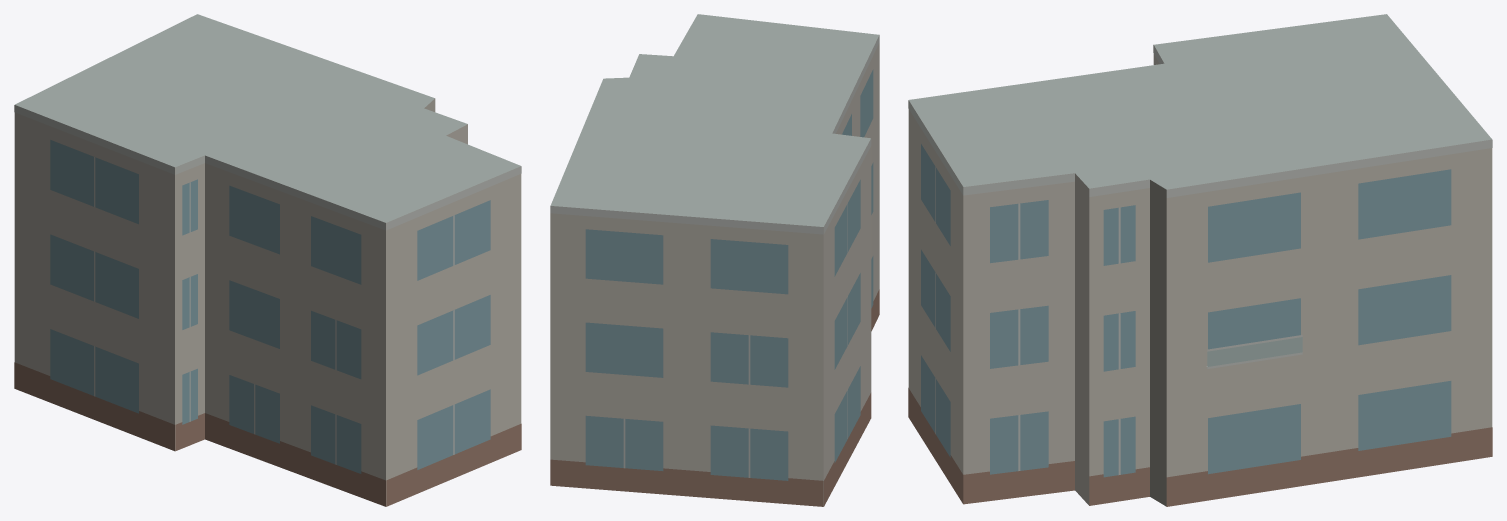
File: survey-upis-32613304.glb
The picture shows the model from 3 angles, left to right: view 1: azimuth 30°, elevation 25°; view 2: azimuth 150°, elevation 25°; view 3: azimuth 270°, elevation 25°; orthographic projection. The views are drawn at different scales.
Parts seen in each view (by area): view 1: survey-upis-32613304.tmp; view 2: survey-upis-32613304.tmp; view 3: survey-upis-32613304.tmp.
Boxes of the visible parts, x1,y1,x2,y2 form: survey-upis-32613304.tmp: (14,14,521,506); survey-upis-32613304.tmp: (550,14,879,506); survey-upis-32613304.tmp: (908,14,1492,506).
Bounding box in the file's own units: 10.88 × 9.15 × 15.28.
